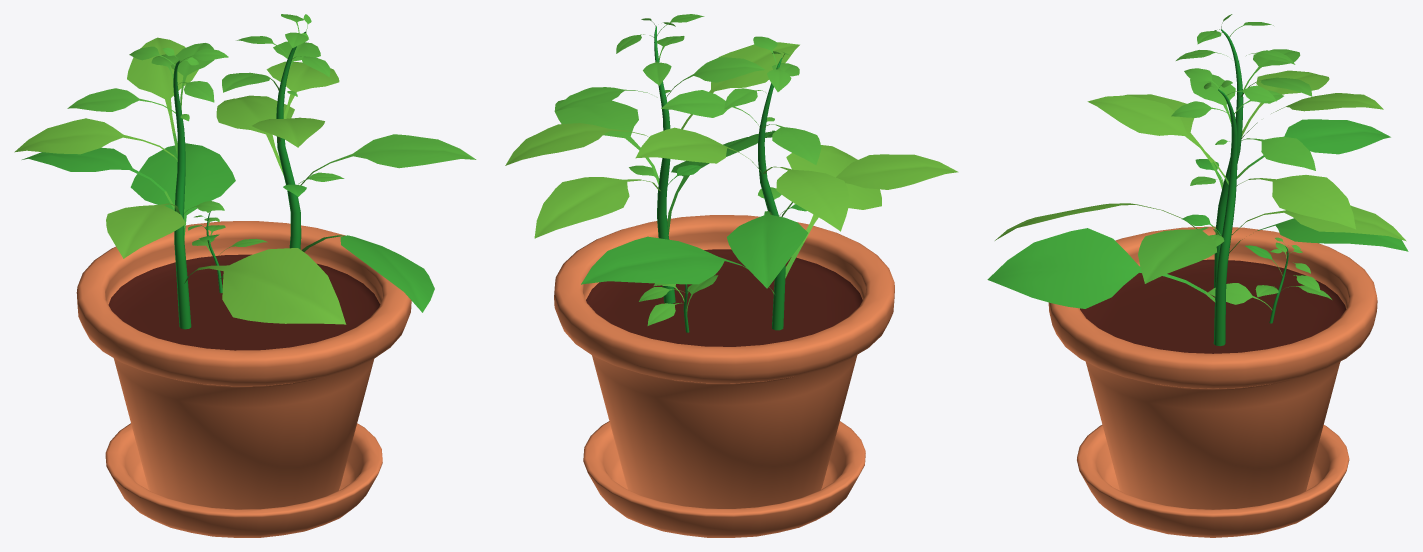
File: plants_3.fbx
3 renders of one model, left to right at view 1: azimuth 30°, elevation 25°; view 2: azimuth 150°, elevation 25°; view 3: azimuth 270°, elevation 25°, orthographic. The views are drawn at different scales.
Visible parts, largest first — view 1: Pot.002; view 2: Pot.002; view 3: Pot.002.
Boxes of the visible parts, box(x1,y1,x2,y2) form: Pot.002: box(14, 14, 476, 537); Pot.002: box(505, 14, 958, 537); Pot.002: box(987, 14, 1408, 537).
Size of the model in its own units: 131 by 153 by 131.
4 materials, 4 textured.
